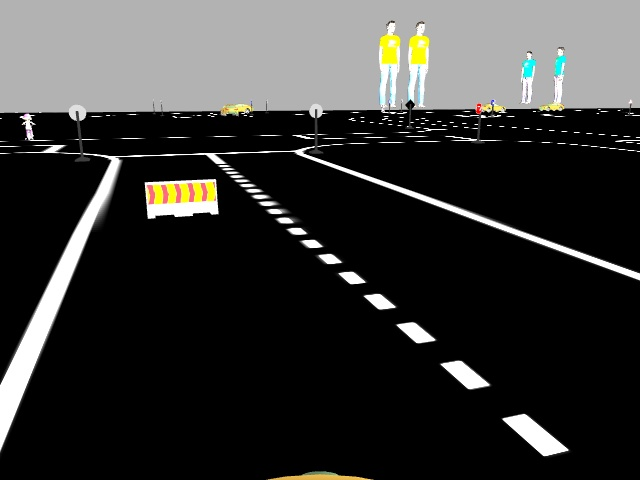ClosedRoadStand: (145, 182, 218, 213)
